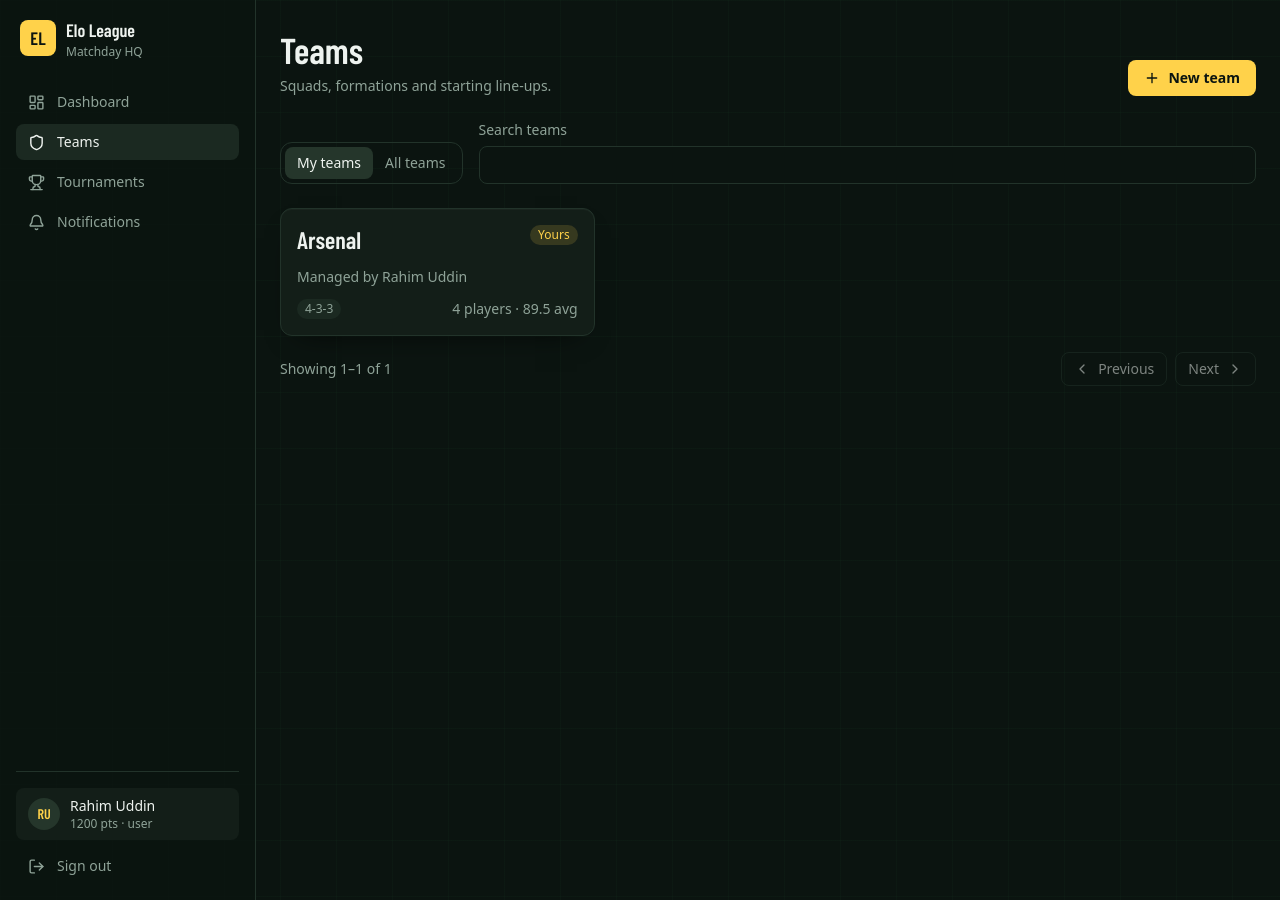
Scenario: creating a team › checks the name first
Click the button "New team".
click(1192, 78)  # box [1128,60,1256,96]
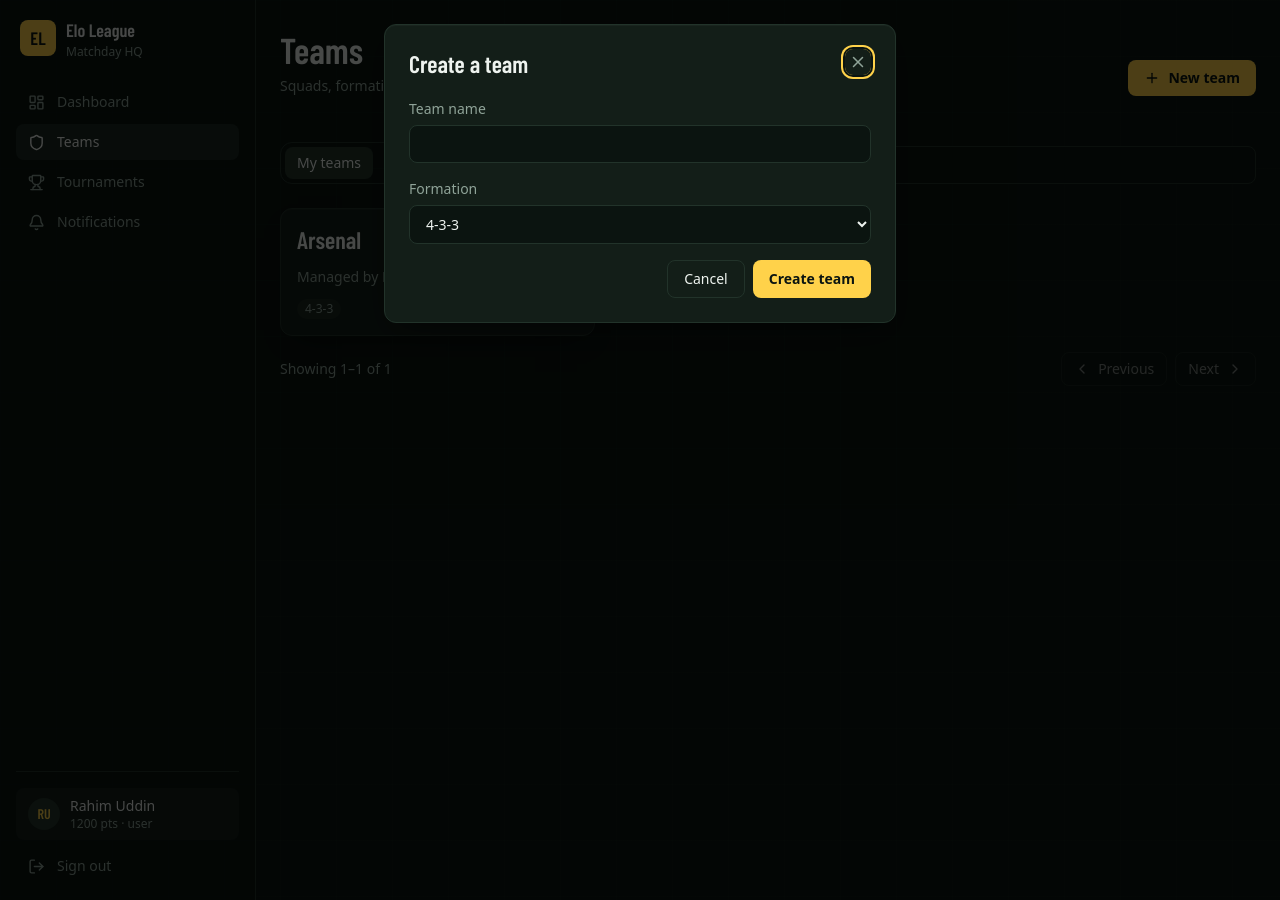
Click the button "Create team".
click(812, 279)  # box [753,260,871,298]
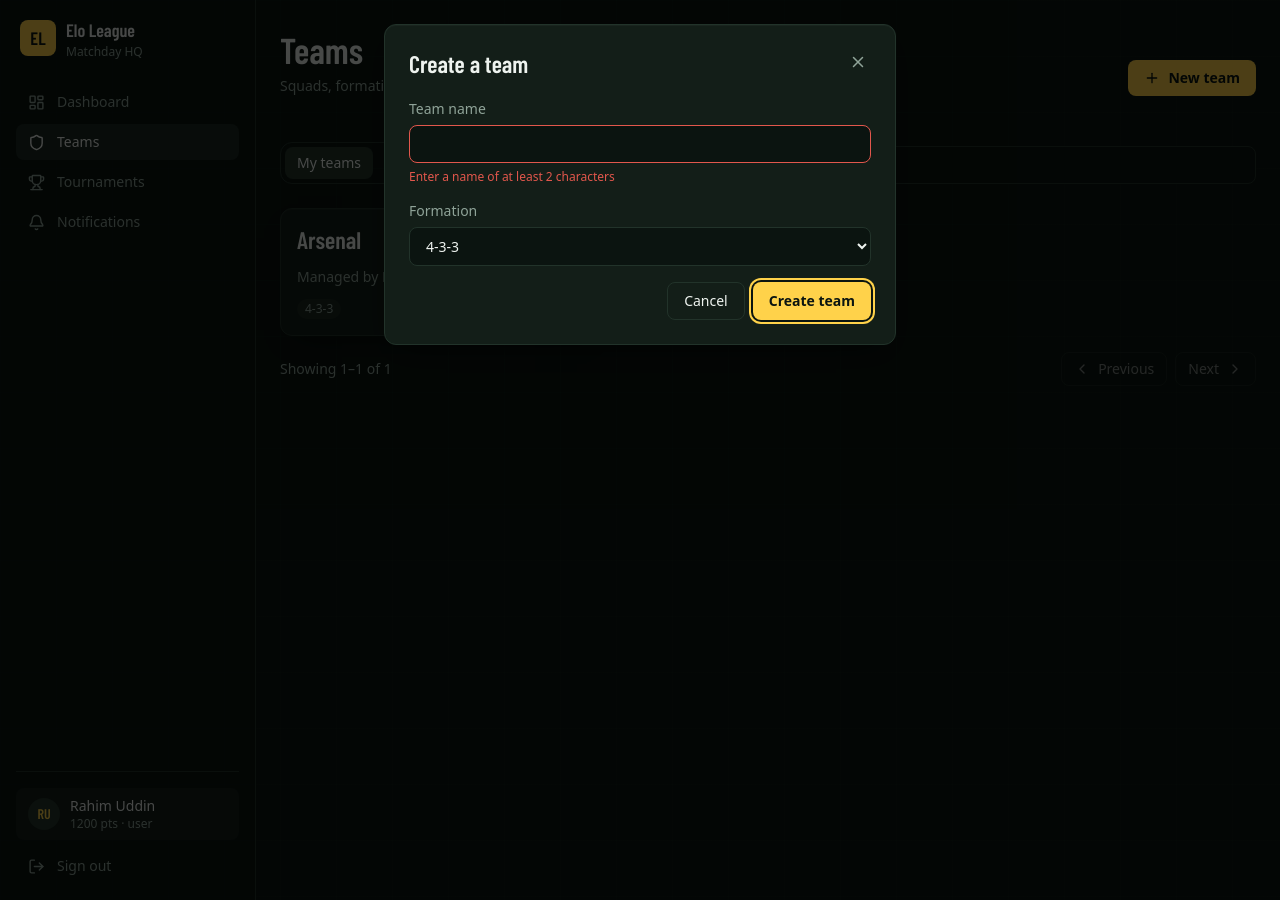
Expected: the text "Enter a name of at least 2 characters" is shown, [409,168,615,185]
